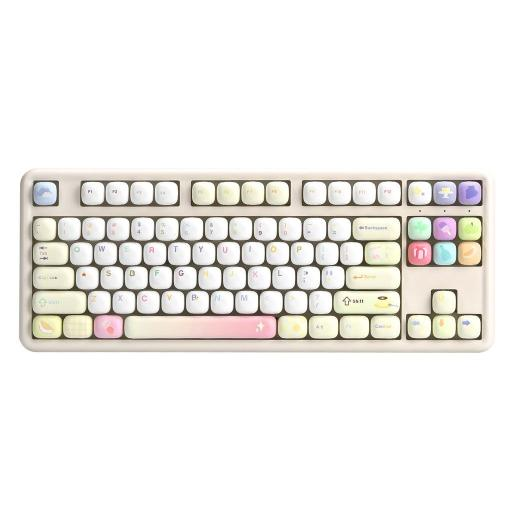KEYBOARD-2: (15, 158, 502, 385)
